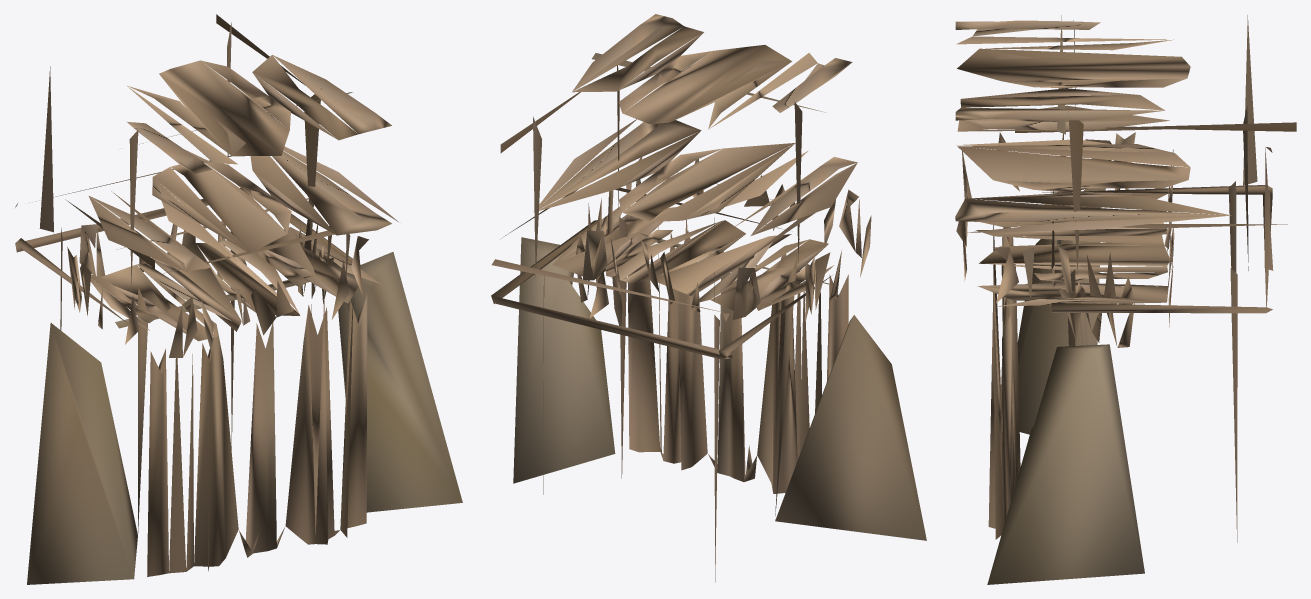
File: muralla_atalaya_a_lejos.glb
3 renders of one model, left to right at view 1: azimuth 30°, elevation 25°; view 2: azimuth 150°, elevation 25°; view 3: azimuth 270°, elevation 25°, orthographic. The views are drawn at different scales.
Visible parts, largest first — view 1: muralla_atalaya_a_lejos; view 2: muralla_atalaya_a_lejos; view 3: muralla_atalaya_a_lejos.
Part boxes in pixels (<box>): muralla_atalaya_a_lejos: <box>15,14,462,584</box>; muralla_atalaya_a_lejos: <box>491,14,926,582</box>; muralla_atalaya_a_lejos: <box>955,15,1296,584</box>.
Size of the model in its own units: 7.03 by 7.15 by 4.99.
